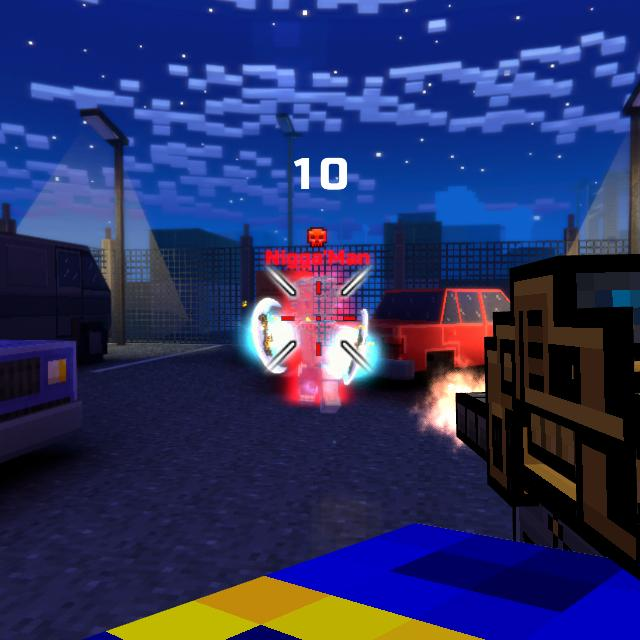Enemy: (280, 278, 351, 411)
